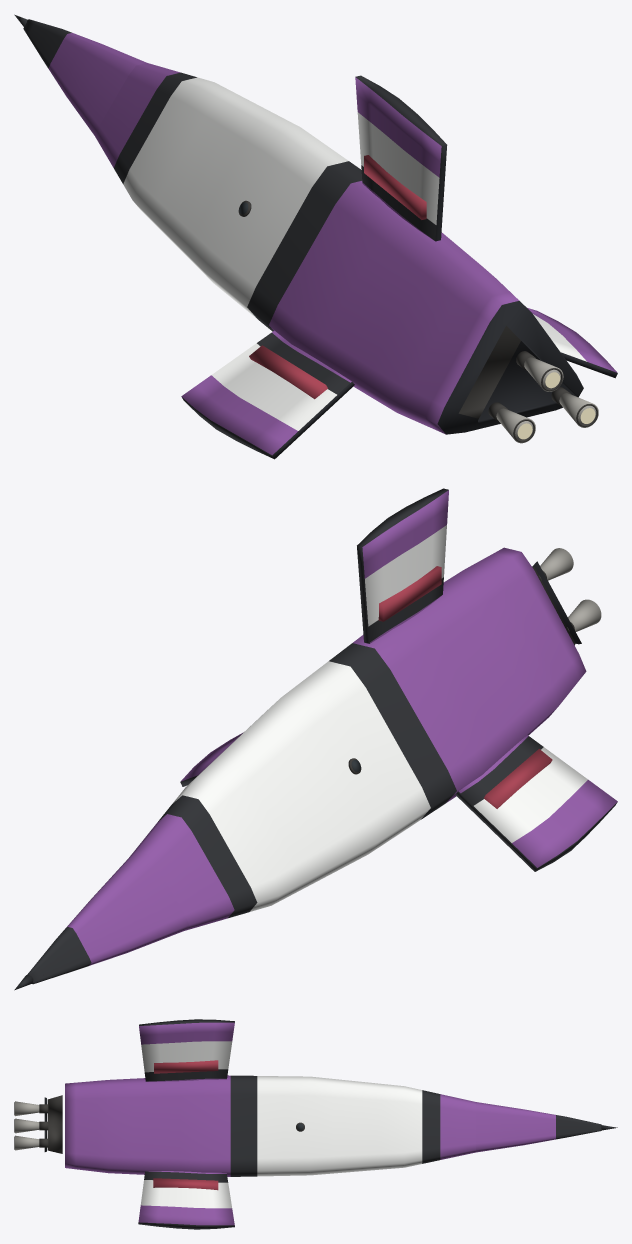
Rendered from Ship_Standard_20.glb.
3 renders of one model, top to bottom at view 1: azimuth 30°, elevation 25°; view 2: azimuth 150°, elevation 25°; view 3: azimuth 270°, elevation 25°, orthographic. The views are drawn at different scales.
Parts seen in each view (by area): view 1: Fuselage_RoundedTriangleTriFoldBody, Wing_LowerLeft_TriFoldCornerBladePaintedMesh, Wing_Dorsal_TriFoldCornerBladePaintedMesh, Nose_RoundedTriangleTaperedForwardSection, EngineBlock_AftTriFoldTrimFrame, EngineBlock_AftTriangularIntegratedMountPlate, Wing_LowerRight_TriFoldCornerBladePaintedMesh, WingRootSocket_LowerLeft_IntegratedEmbeddedShoulder, WingRootSocket_Dorsal_IntegratedEmbeddedShoulder, EngineBell_LowerLeft_BurnishedNozzle, EngineBell_Dorsal_BurnishedNozzle, EngineBell_LowerRight_BurnishedNozzle; view 2: Fuselage_RoundedTriangleTriFoldBody, Wing_LowerLeft_TriFoldCornerBladePaintedMesh, Nose_RoundedTriangleTaperedForwardSection, Wing_Dorsal_TriFoldCornerBladePaintedMesh, WingRootSocket_LowerLeft_IntegratedEmbeddedShoulder, WingRootSocket_Dorsal_IntegratedEmbeddedShoulder, EngineBell_LowerLeft_BurnishedNozzle, EngineBell_Dorsal_BurnishedNozzle; view 3: Fuselage_RoundedTriangleTriFoldBody, Wing_Dorsal_TriFoldCornerBladePaintedMesh, Wing_LowerRight_TriFoldCornerBladePaintedMesh, Nose_RoundedTriangleTaperedForwardSection, EngineBlock_AftTriangularIntegratedMountPlate, WingRootSocket_Dorsal_IntegratedEmbeddedShoulder, WingRootSocket_LowerRight_IntegratedEmbeddedShoulder.
Boxes of the visible parts, bbox=[...] form: Fuselage_RoundedTriangleTriFoldBody: bbox=[95, 63, 583, 434]; Wing_LowerLeft_TriFoldCornerBladePaintedMesh: bbox=[181, 330, 354, 459]; Wing_Dorsal_TriFoldCornerBladePaintedMesh: bbox=[355, 75, 447, 241]; Nose_RoundedTriangleTaperedForwardSection: bbox=[23, 19, 146, 135]; EngineBlock_AftTriFoldTrimFrame: bbox=[478, 341, 578, 422]; EngineBlock_AftTriangularIntegratedMountPlate: bbox=[458, 325, 520, 418]; Wing_LowerRight_TriFoldCornerBladePaintedMesh: bbox=[527, 308, 617, 378]; WingRootSocket_LowerLeft_IntegratedEmbeddedShoulder: bbox=[249, 345, 327, 399]; WingRootSocket_Dorsal_IntegratedEmbeddedShoulder: bbox=[364, 155, 426, 219]; EngineBell_LowerLeft_BurnishedNozzle: bbox=[496, 408, 535, 443]; EngineBell_Dorsal_BurnishedNozzle: bbox=[524, 357, 563, 391]; EngineBell_LowerRight_BurnishedNozzle: bbox=[559, 393, 598, 427]; Fuselage_RoundedTriangleTriFoldBody: bbox=[129, 547, 586, 930]; Wing_LowerLeft_TriFoldCornerBladePaintedMesh: bbox=[455, 735, 617, 871]; Nose_RoundedTriangleTaperedForwardSection: bbox=[27, 851, 188, 984]; Wing_Dorsal_TriFoldCornerBladePaintedMesh: bbox=[357, 488, 448, 643]; WingRootSocket_LowerLeft_IntegratedEmbeddedShoulder: bbox=[484, 749, 552, 808]; WingRootSocket_Dorsal_IntegratedEmbeddedShoulder: bbox=[378, 566, 441, 621]; EngineBell_LowerLeft_BurnishedNozzle: bbox=[568, 599, 601, 631]; EngineBell_Dorsal_BurnishedNozzle: bbox=[540, 548, 573, 580]; Fuselage_RoundedTriangleTriFoldBody: bbox=[65, 1075, 475, 1176]; Wing_Dorsal_TriFoldCornerBladePaintedMesh: bbox=[139, 1019, 234, 1081]; Wing_LowerRight_TriFoldCornerBladePaintedMesh: bbox=[138, 1171, 234, 1229]; Nose_RoundedTriangleTaperedForwardSection: bbox=[476, 1102, 601, 1152]; EngineBlock_AftTriangularIntegratedMountPlate: bbox=[47, 1095, 62, 1153]; WingRootSocket_Dorsal_IntegratedEmbeddedShoulder: bbox=[154, 1060, 218, 1073]; WingRootSocket_LowerRight_IntegratedEmbeddedShoulder: bbox=[153, 1178, 218, 1190].
Size of the model in its own units: 3.69 by 2.77 by 9.48.
